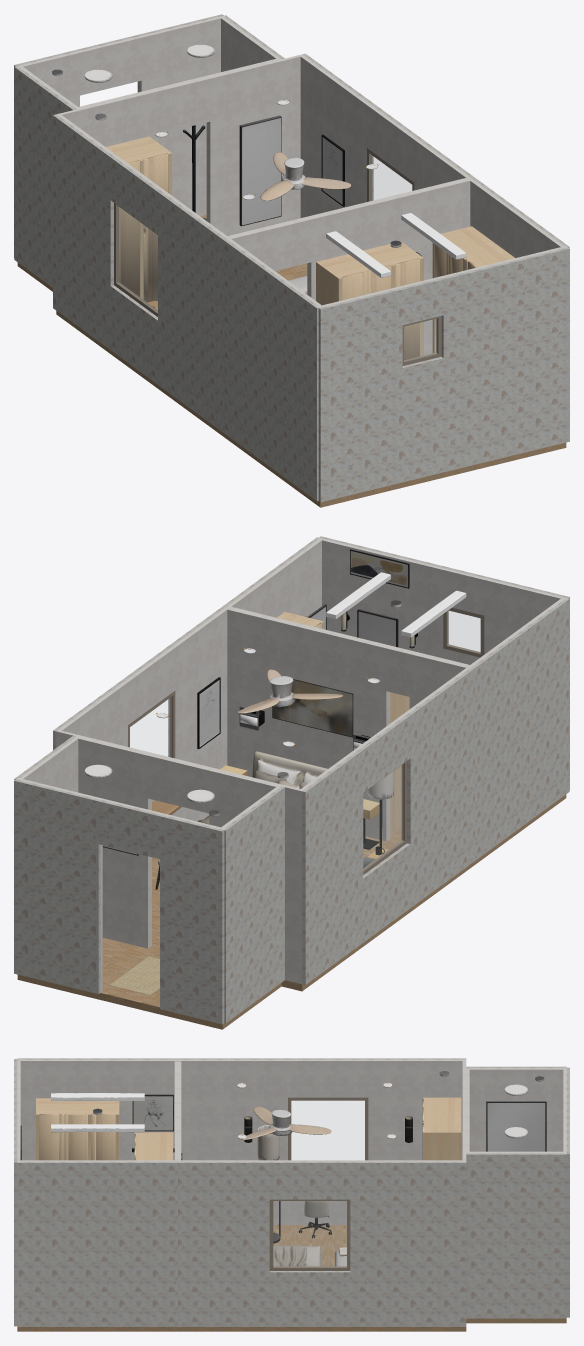
File: scene_web.glb
The picture shows the model from 3 angles, top to bottom: view 1: azimuth 30°, elevation 25°; view 2: azimuth 150°, elevation 25°; view 3: azimuth 270°, elevation 25°; orthographic projection. The views are drawn at different scales.
Parts seen in each view (by area): view 1: geometry_0.024, geometry_0.053, geometry_0.028, geometry_0.048, geometry_0, geometry_0.050, geometry_0.022, geometry_0.006, geometry_0.063, geometry_0.025, glass.002, Mesh_24 (+22 smaller); view 2: geometry_0.001, geometry_0.053, geometry_0.049, geometry_0.028, geometry_0.002, geometry_0.006, geometry_0.023, geometry_0.050, geometry_0.048, geometry_0.025, Mesh_0, glass.002 (+23 smaller); view 3: geometry_0.051, geometry_0.026, geometry_0.052, geometry_0.004, geometry_0.027, glass.001, geometry_0.005, glass.002, Mesh_92, geometry_0.010, geometry_0.038, P_489acbc202ea1833.004 (+24 smaller).
Boxes of the visible parts, x1,y1,x2,y2 form: geometry_0.024: (318,247,569,502); geometry_0.053: (53,114,225,431); geometry_0.028: (222,238,318,501); geometry_0.048: (60,55,300,235); geometry_0: (16,15,225,216); geometry_0.050: (299,54,471,217); geometry_0.022: (229,179,470,355); geometry_0.006: (14,66,76,287); geometry_0.063: (239,115,281,226); geometry_0.025: (468,178,563,257); glass.002: (118,206,157,311); Mesh_24: (226,435,566,507); geometry_0.001: (14,779,224,1024); geometry_0.053: (302,667,474,984); geometry_0.049: (227,608,467,841); geometry_0.028: (472,598,569,860); geometry_0.002: (75,736,281,948); geometry_0.006: (224,786,284,1023); geometry_0.023: (317,537,567,708); geometry_0.050: (56,607,228,821); geometry_0.048: (56,731,302,984); geometry_0.025: (226,539,321,617); Mesh_0: (17,937,281,1029); glass.002: (363,765,402,868); geometry_0.051: (178,1161,466,1326); geometry_0.026: (17,1161,177,1326); geometry_0.052: (178,1059,466,1224); geometry_0.004: (466,1153,566,1318); geometry_0.027: (20,1059,177,1160); glass.001: (273,1201,346,1266); geometry_0.005: (469,1068,563,1151); glass.002: (291,1101,364,1159); Mesh_92: (178,1225,466,1331); geometry_0.010: (486,1101,546,1151); geometry_0.038: (132,1094,173,1131); P_489acbc202ea1833.004: (424,1098,461,1132).
Bounding box in the file's own units: 3.7 × 2.8 × 8.3.
79 materials, 64 textured.
